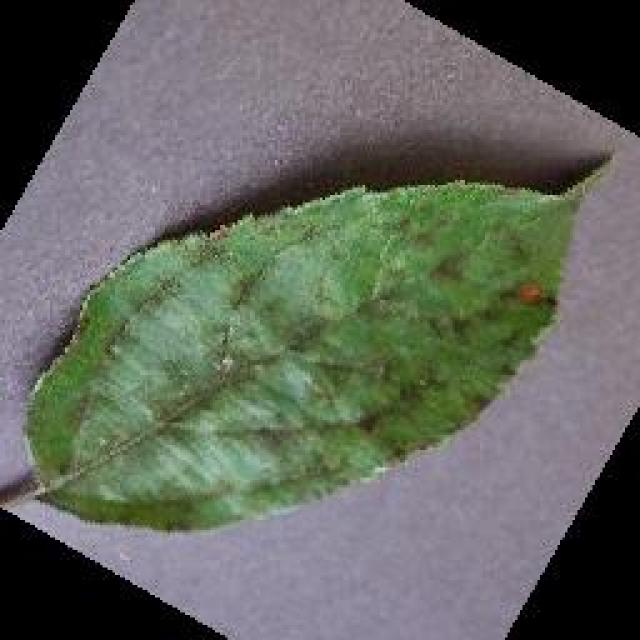apple scab disease: (18, 152, 612, 532)
